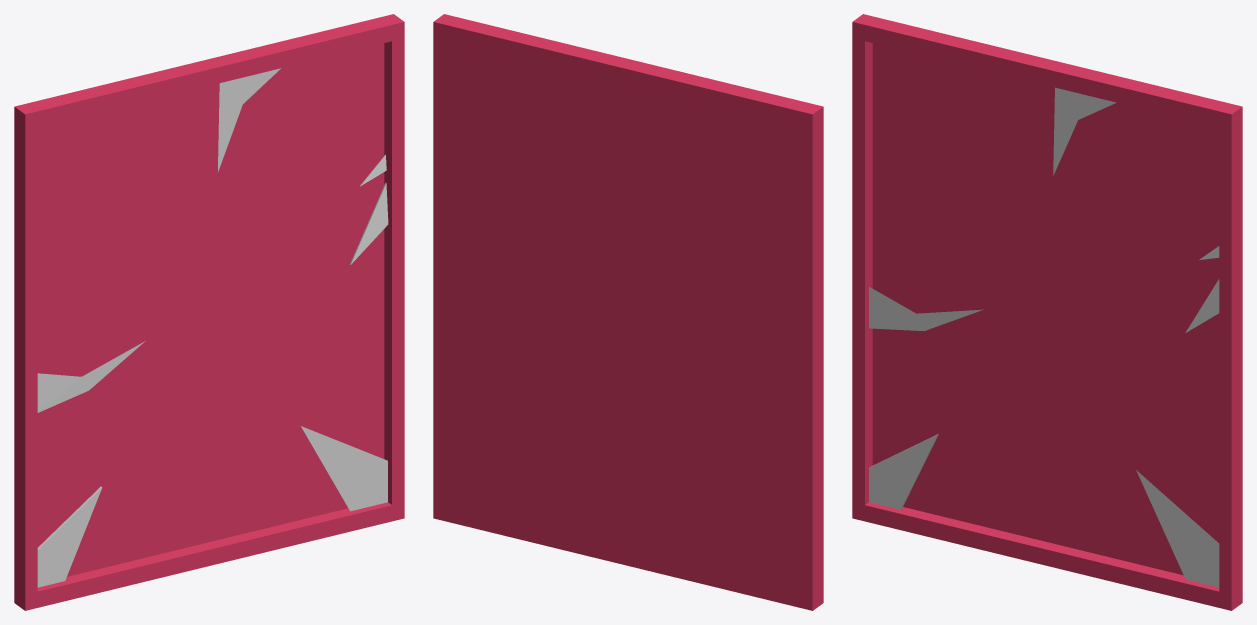
File: MirrorBroken.fbx
3 views of the same model, side by side, from view 1: azimuth 30°, elevation 25°; view 2: azimuth 150°, elevation 25°; view 3: azimuth 330°, elevation 25° (orthographic).
Parts seen in each view (by area): view 1: Cube.005; view 2: Cube.005; view 3: Cube.005.
Boxes of the visible parts, bbox=[...] form: Cube.005: bbox=[14, 14, 404, 610]; Cube.005: bbox=[433, 14, 823, 610]; Cube.005: bbox=[852, 14, 1242, 610].
Bounding box in the file's own units: 426 × 532 × 20.94.
